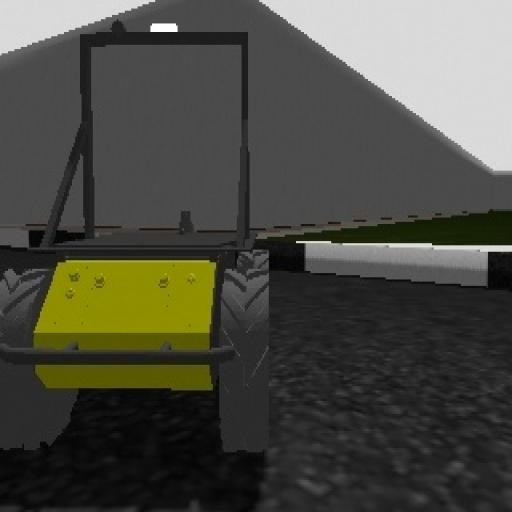huskya200: (0, 13, 288, 463)
